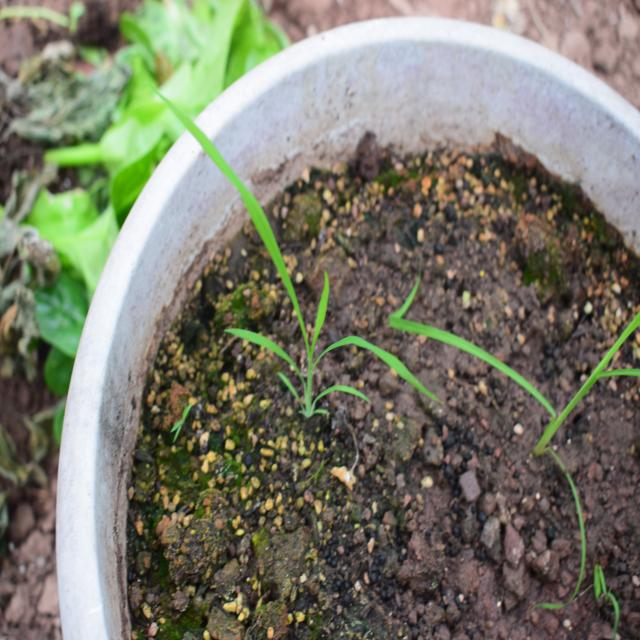barnyard_grass: (172, 92, 422, 415)
